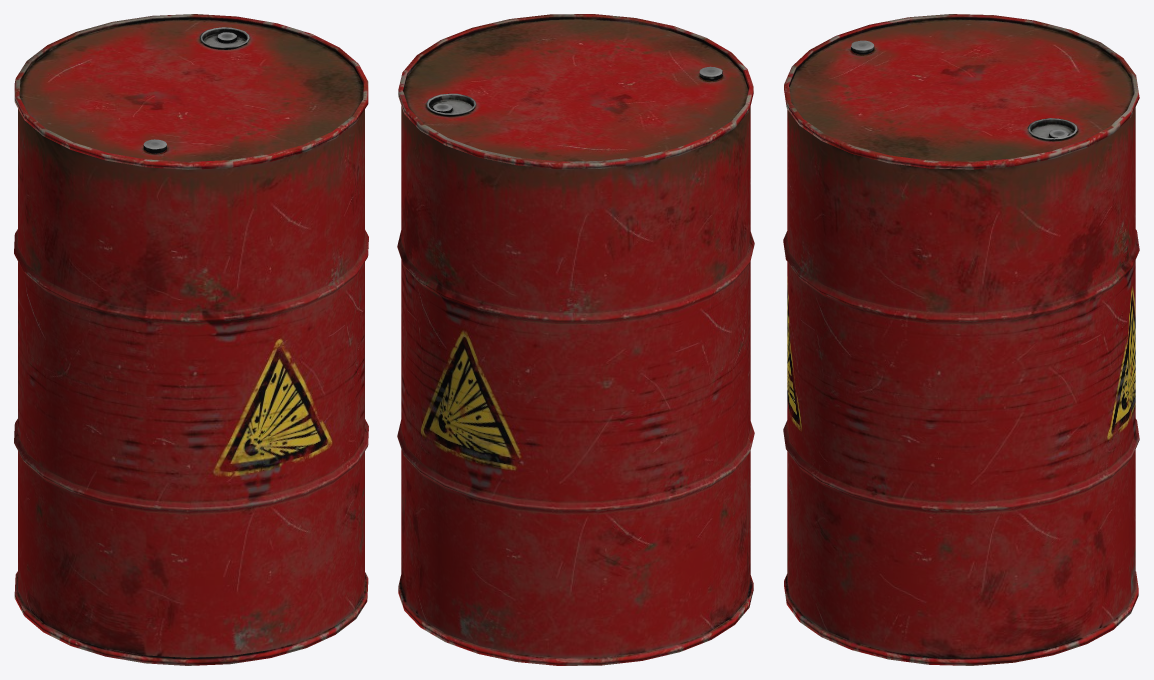
The model's file is Barrel_01.glb.
The picture shows the model from 3 angles, left to right: view 1: azimuth 30°, elevation 25°; view 2: azimuth 150°, elevation 25°; view 3: azimuth 270°, elevation 25°; orthographic projection.
Parts seen in each view (by area): view 1: Barrel_01; view 2: Barrel_01; view 3: Barrel_01.
Boxes of the visible parts, <box> form: Barrel_01: <box>14,14,368,665</box>; Barrel_01: <box>397,14,754,665</box>; Barrel_01: <box>783,14,1139,665</box>.
Size of the model in its own units: 0.5629 by 0.88 by 0.5629.
Materials: 1 (1 with a texture image).
